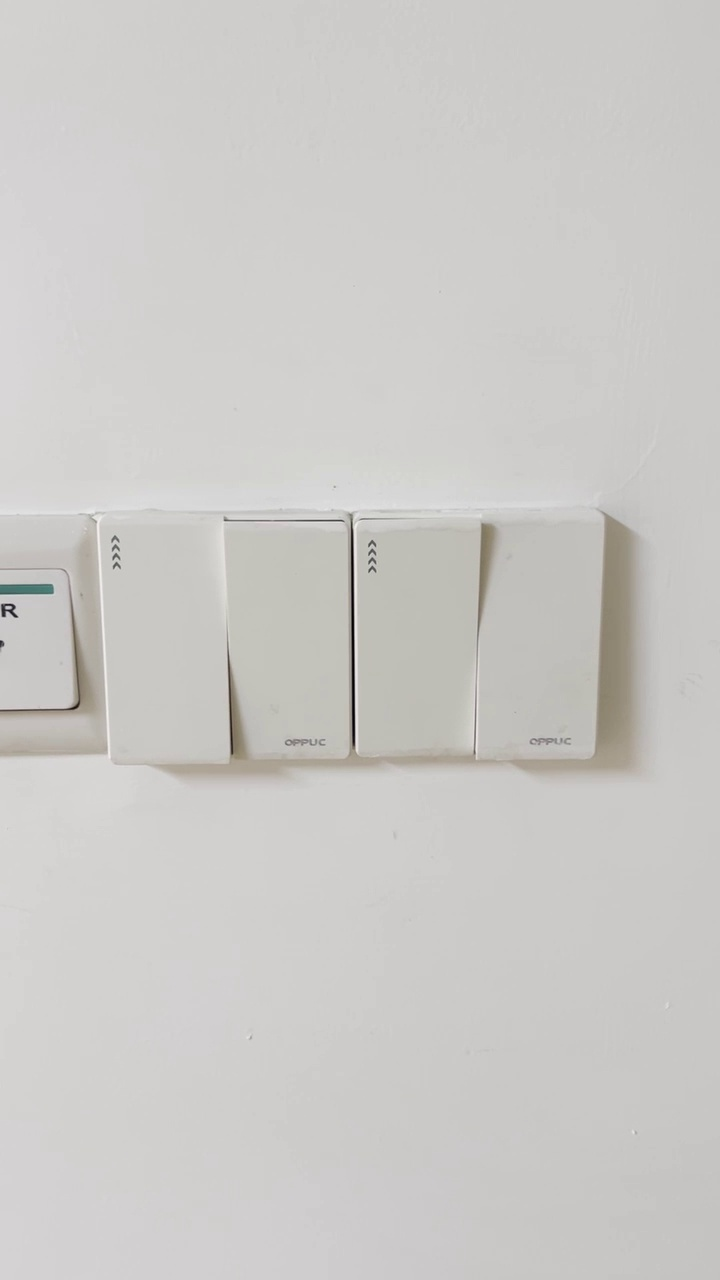button1: (99, 514, 230, 766), (228, 518, 351, 767), (483, 525, 596, 757), (364, 524, 475, 755)
